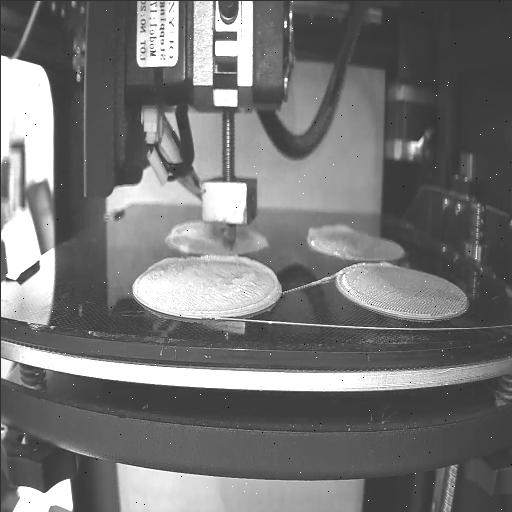over_extrusion: (198, 253, 280, 319), (304, 224, 355, 244), (142, 254, 178, 268), (374, 258, 396, 272)
